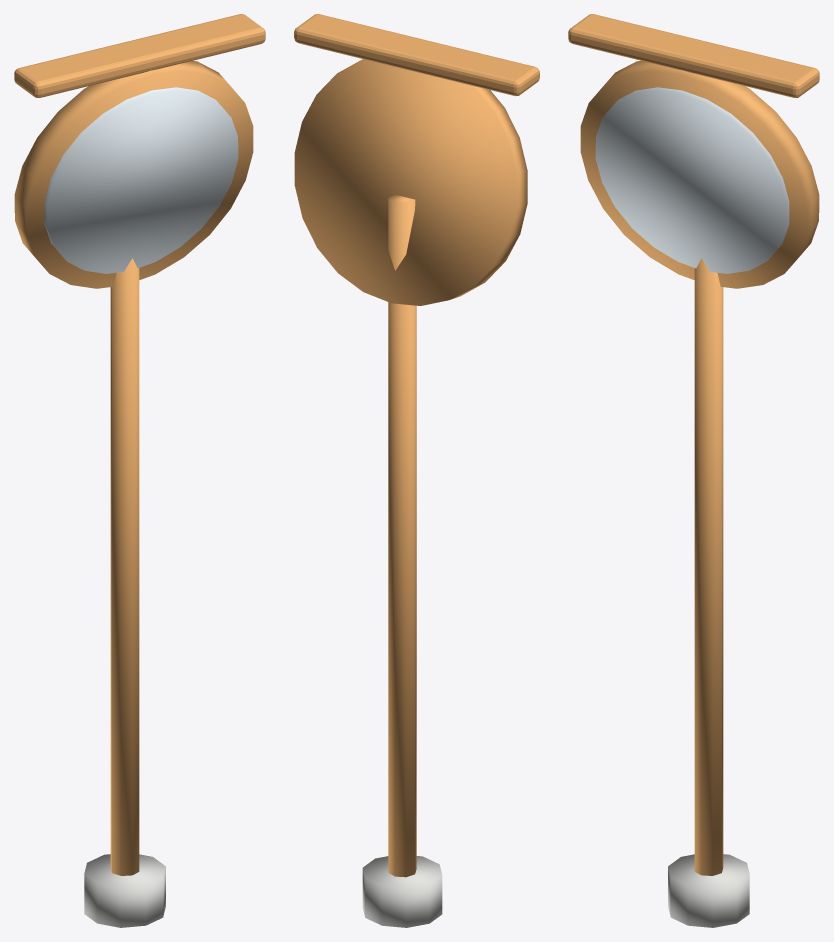
File: curve_mirror.glb
3 renders of one model, left to right at view 1: azimuth 30°, elevation 25°; view 2: azimuth 150°, elevation 25°; view 3: azimuth 330°, elevation 25°, orthographic. The views are drawn at different scales.
Parts seen in each view (by area): view 1: curve_mirror; view 2: curve_mirror; view 3: curve_mirror.
Part boxes in pixels (x1=…): curve_mirror: x1=14, y1=14, x2=265, y2=927; curve_mirror: x1=294, y1=14, x2=539, y2=927; curve_mirror: x1=568, y1=14, x2=819, y2=927.
Size of the model in its own units: 0.9 by 3.24 by 0.3397.
